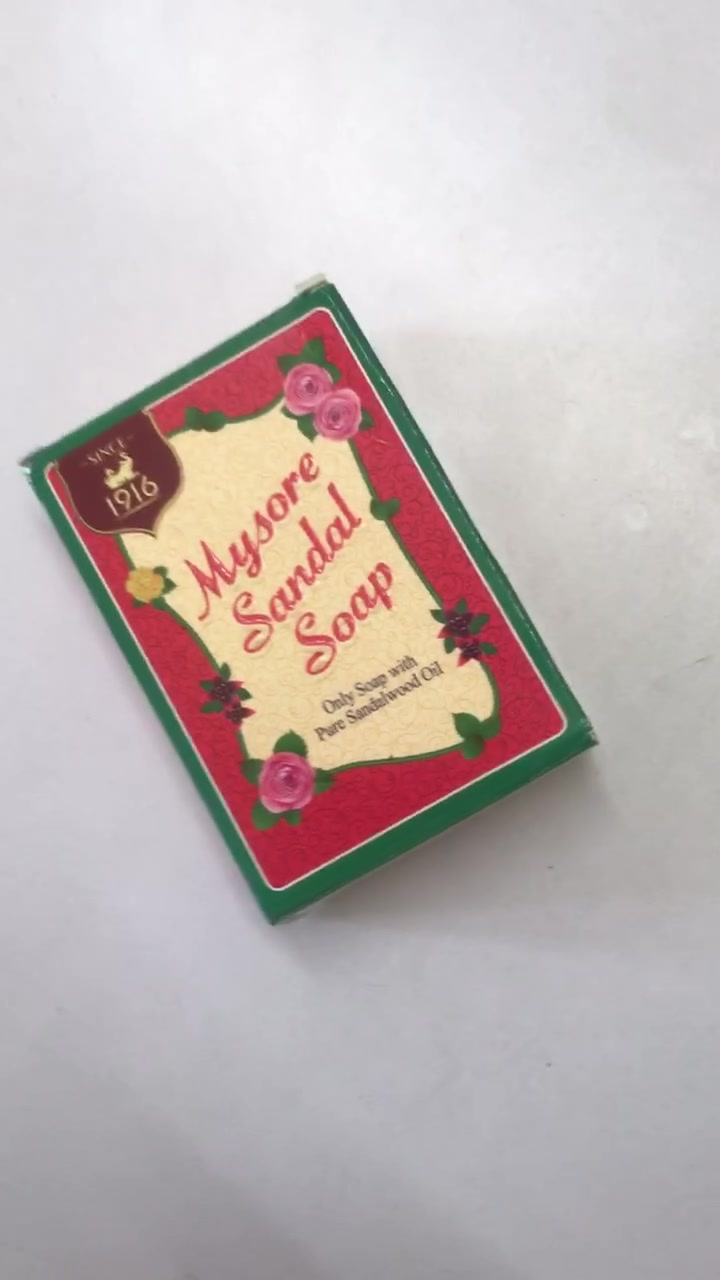mysore sandal soap: (20, 281, 592, 931)
